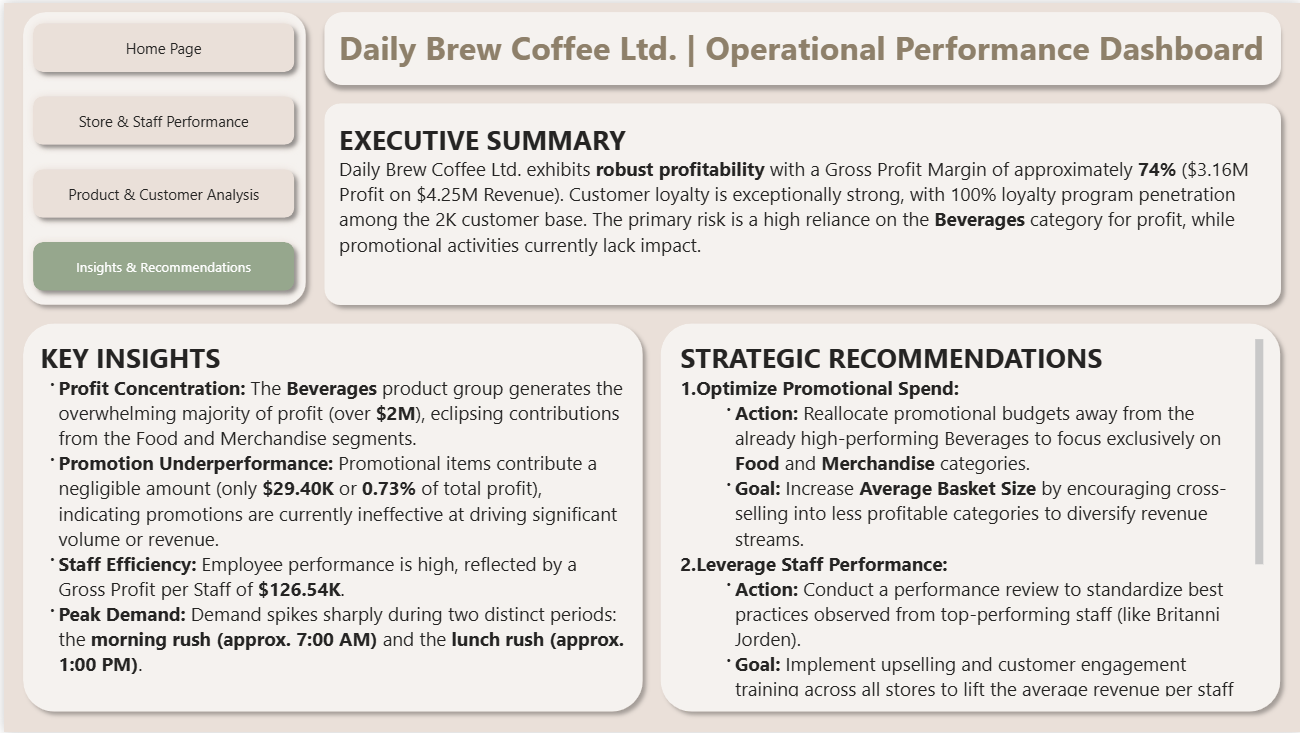

The dashboard page shown, as its layout file describes it:
{"tool":"powerbi","page":{"name":"Insights & Recommendations","canvas":[1280,720],"ordinal":3},"visuals":[{"type":"shape","box":[307.1,90,962.9,217.1],"z":0},{"type":"shape","box":[10,0,297.1,307.1],"z":1000},{"type":"shape","box":[640,307.1,630,401.4],"z":2000},{"type":"shape","box":[10,307.1,630,401.4],"z":3000},{"type":"textbox","box":[325.7,111.4,922.9,160],"z":4000},{"type":"textbox","box":[31.4,327.1,588.6,362.9],"z":5000},{"type":"textbox","box":[662.9,327.1,585.7,362.9],"z":6000},{"type":"pageNavigator","box":[20,11.2,276.2,285],"z":7000},{"type":"shape","box":[307.1,0,962.9,90],"z":8000},{"type":"textbox","box":[325.7,17.1,930,54.3],"z":9000}]}

Visuals, with their boxes in screenshot pixels (x1, y1, x2, y2), scaled from the page's 1280x720 canvas onto the 1300x733 screenshot:
shape: (x1=312, y1=92, x2=1290, y2=313)
shape: (x1=10, y1=0, x2=312, y2=313)
shape: (x1=650, y1=313, x2=1290, y2=721)
shape: (x1=10, y1=313, x2=650, y2=721)
textbox: (x1=331, y1=113, x2=1268, y2=276)
textbox: (x1=32, y1=333, x2=630, y2=702)
textbox: (x1=673, y1=333, x2=1268, y2=702)
pageNavigator: (x1=20, y1=11, x2=301, y2=302)
shape: (x1=312, y1=0, x2=1290, y2=92)
textbox: (x1=331, y1=17, x2=1275, y2=73)
